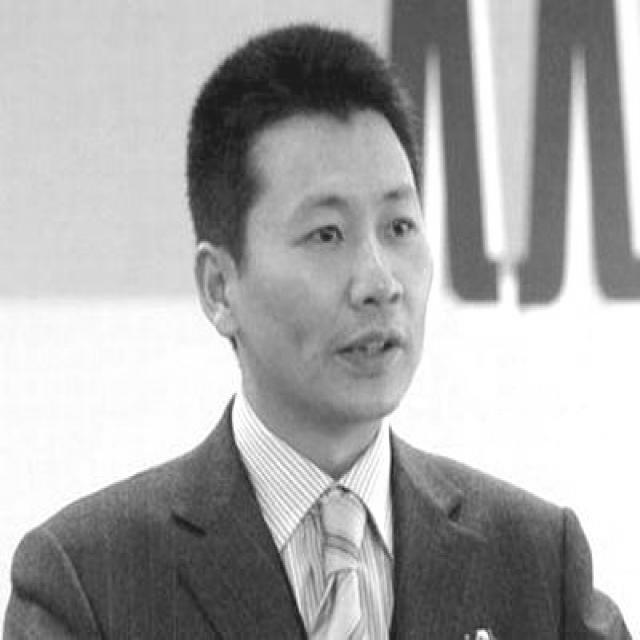real: (253, 122, 440, 419)
